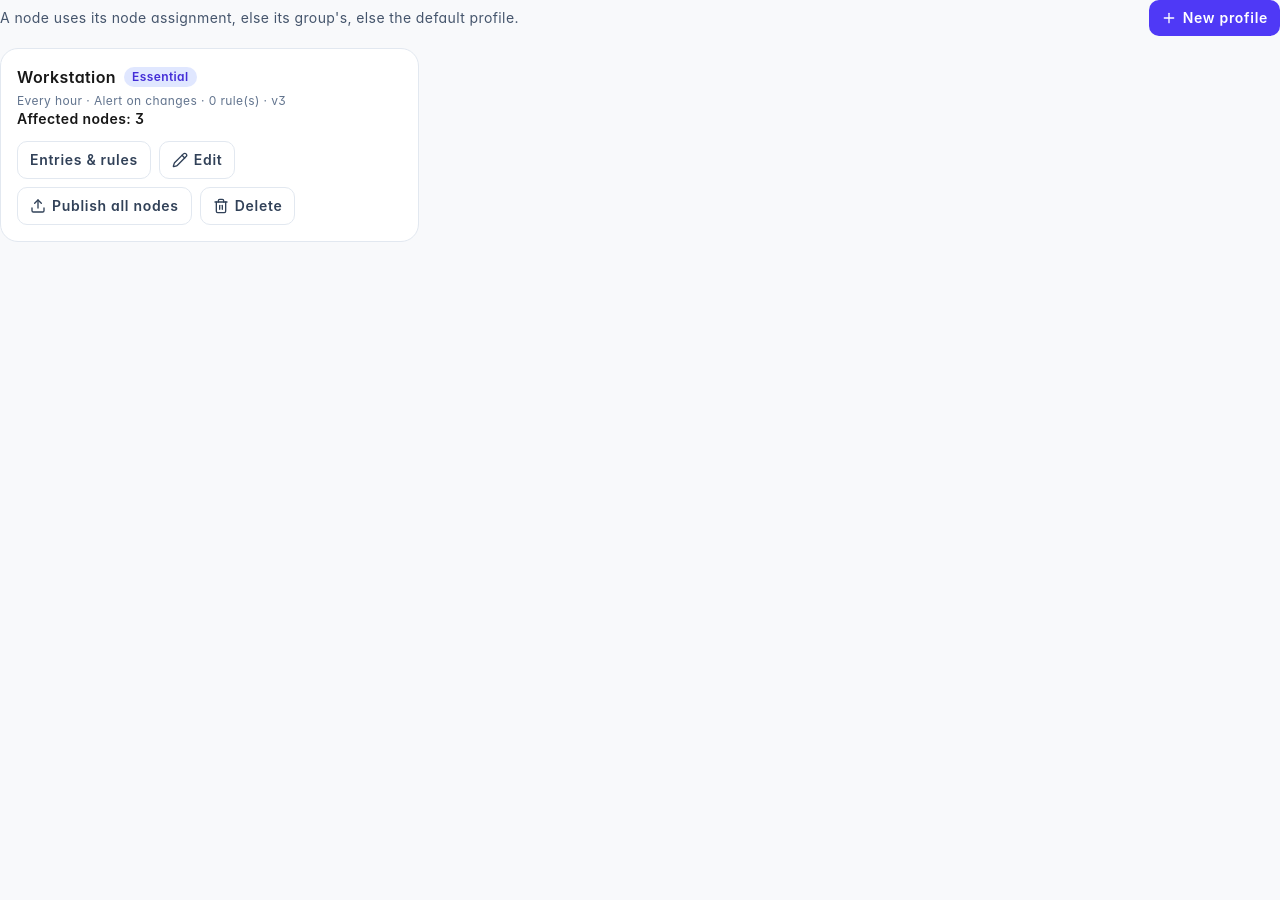
Test: ProfileEditor background publish › 409 "already running" is shown as such (not as stale)
Click the button "Publish all nodes" at (104, 206), box [17, 187, 192, 225]
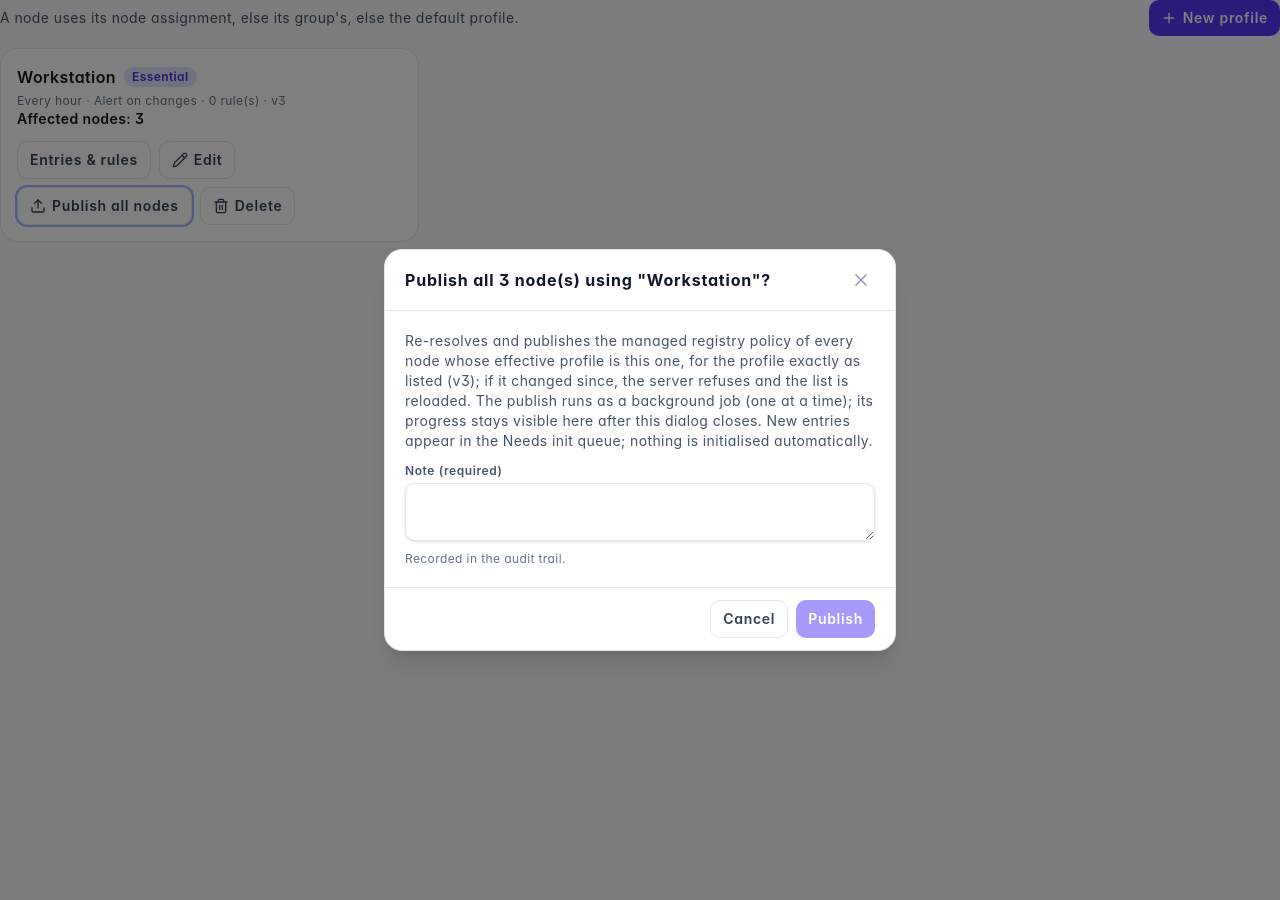
Type "CHG-1" into the text box labelled "Note (required)" at (640, 512), box [405, 483, 875, 541]
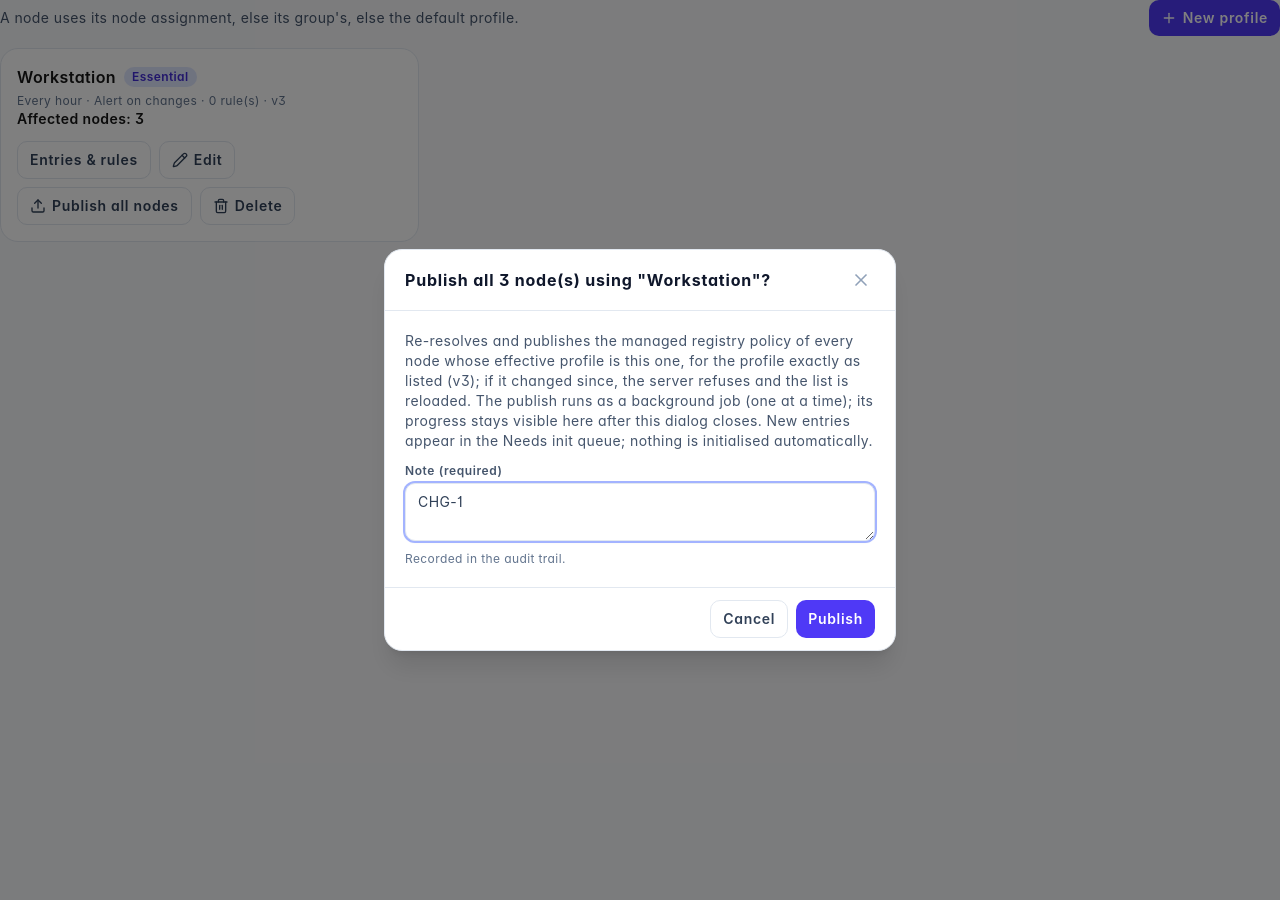
Click the button "Publish" at (836, 619), box [796, 600, 875, 638]
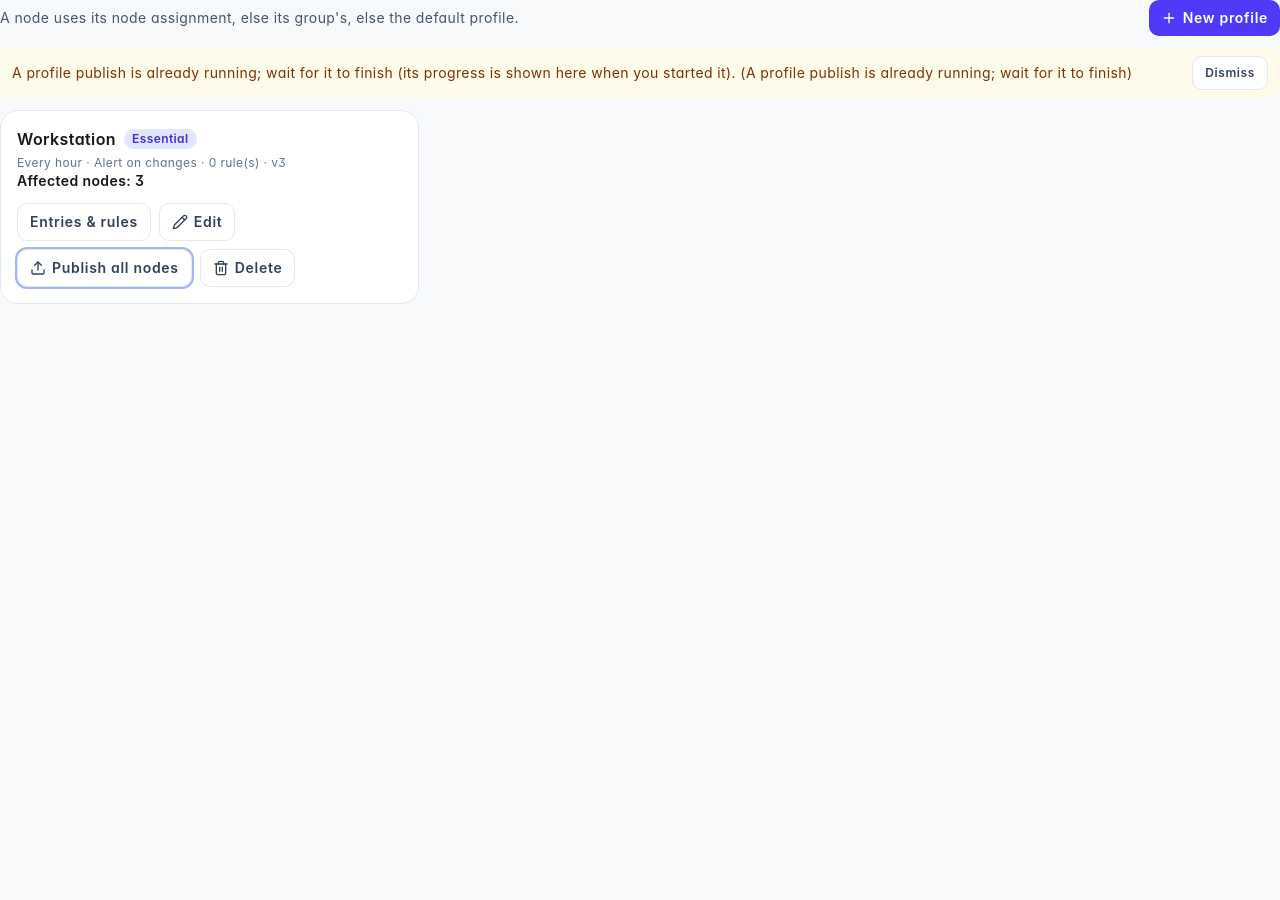
Check: the text "A profile publish is already running; wait for it to finish (" is shown, box [12, 64, 1132, 81]
